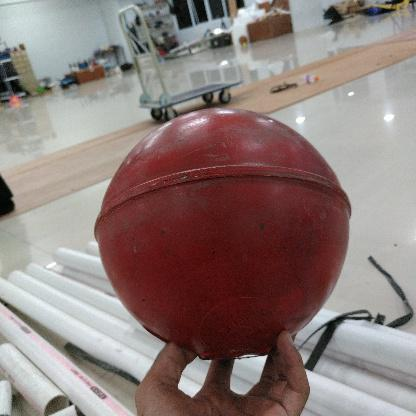red_buoy: (93, 105, 352, 362)
